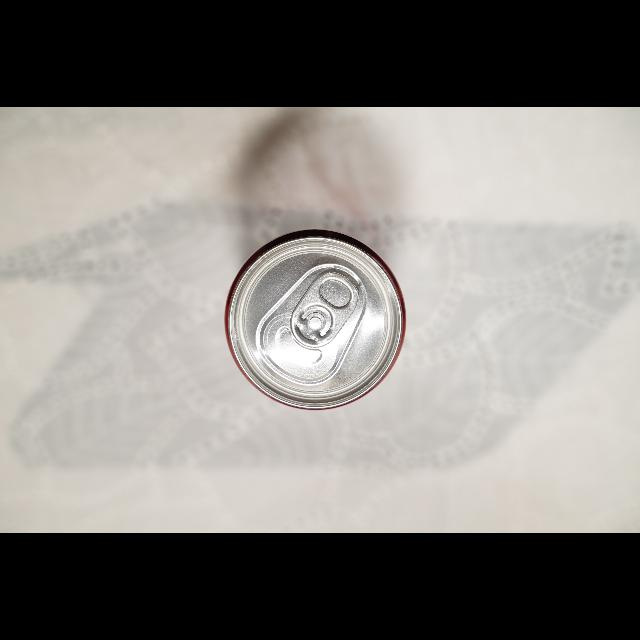coca_cola: (224, 229, 406, 411)
